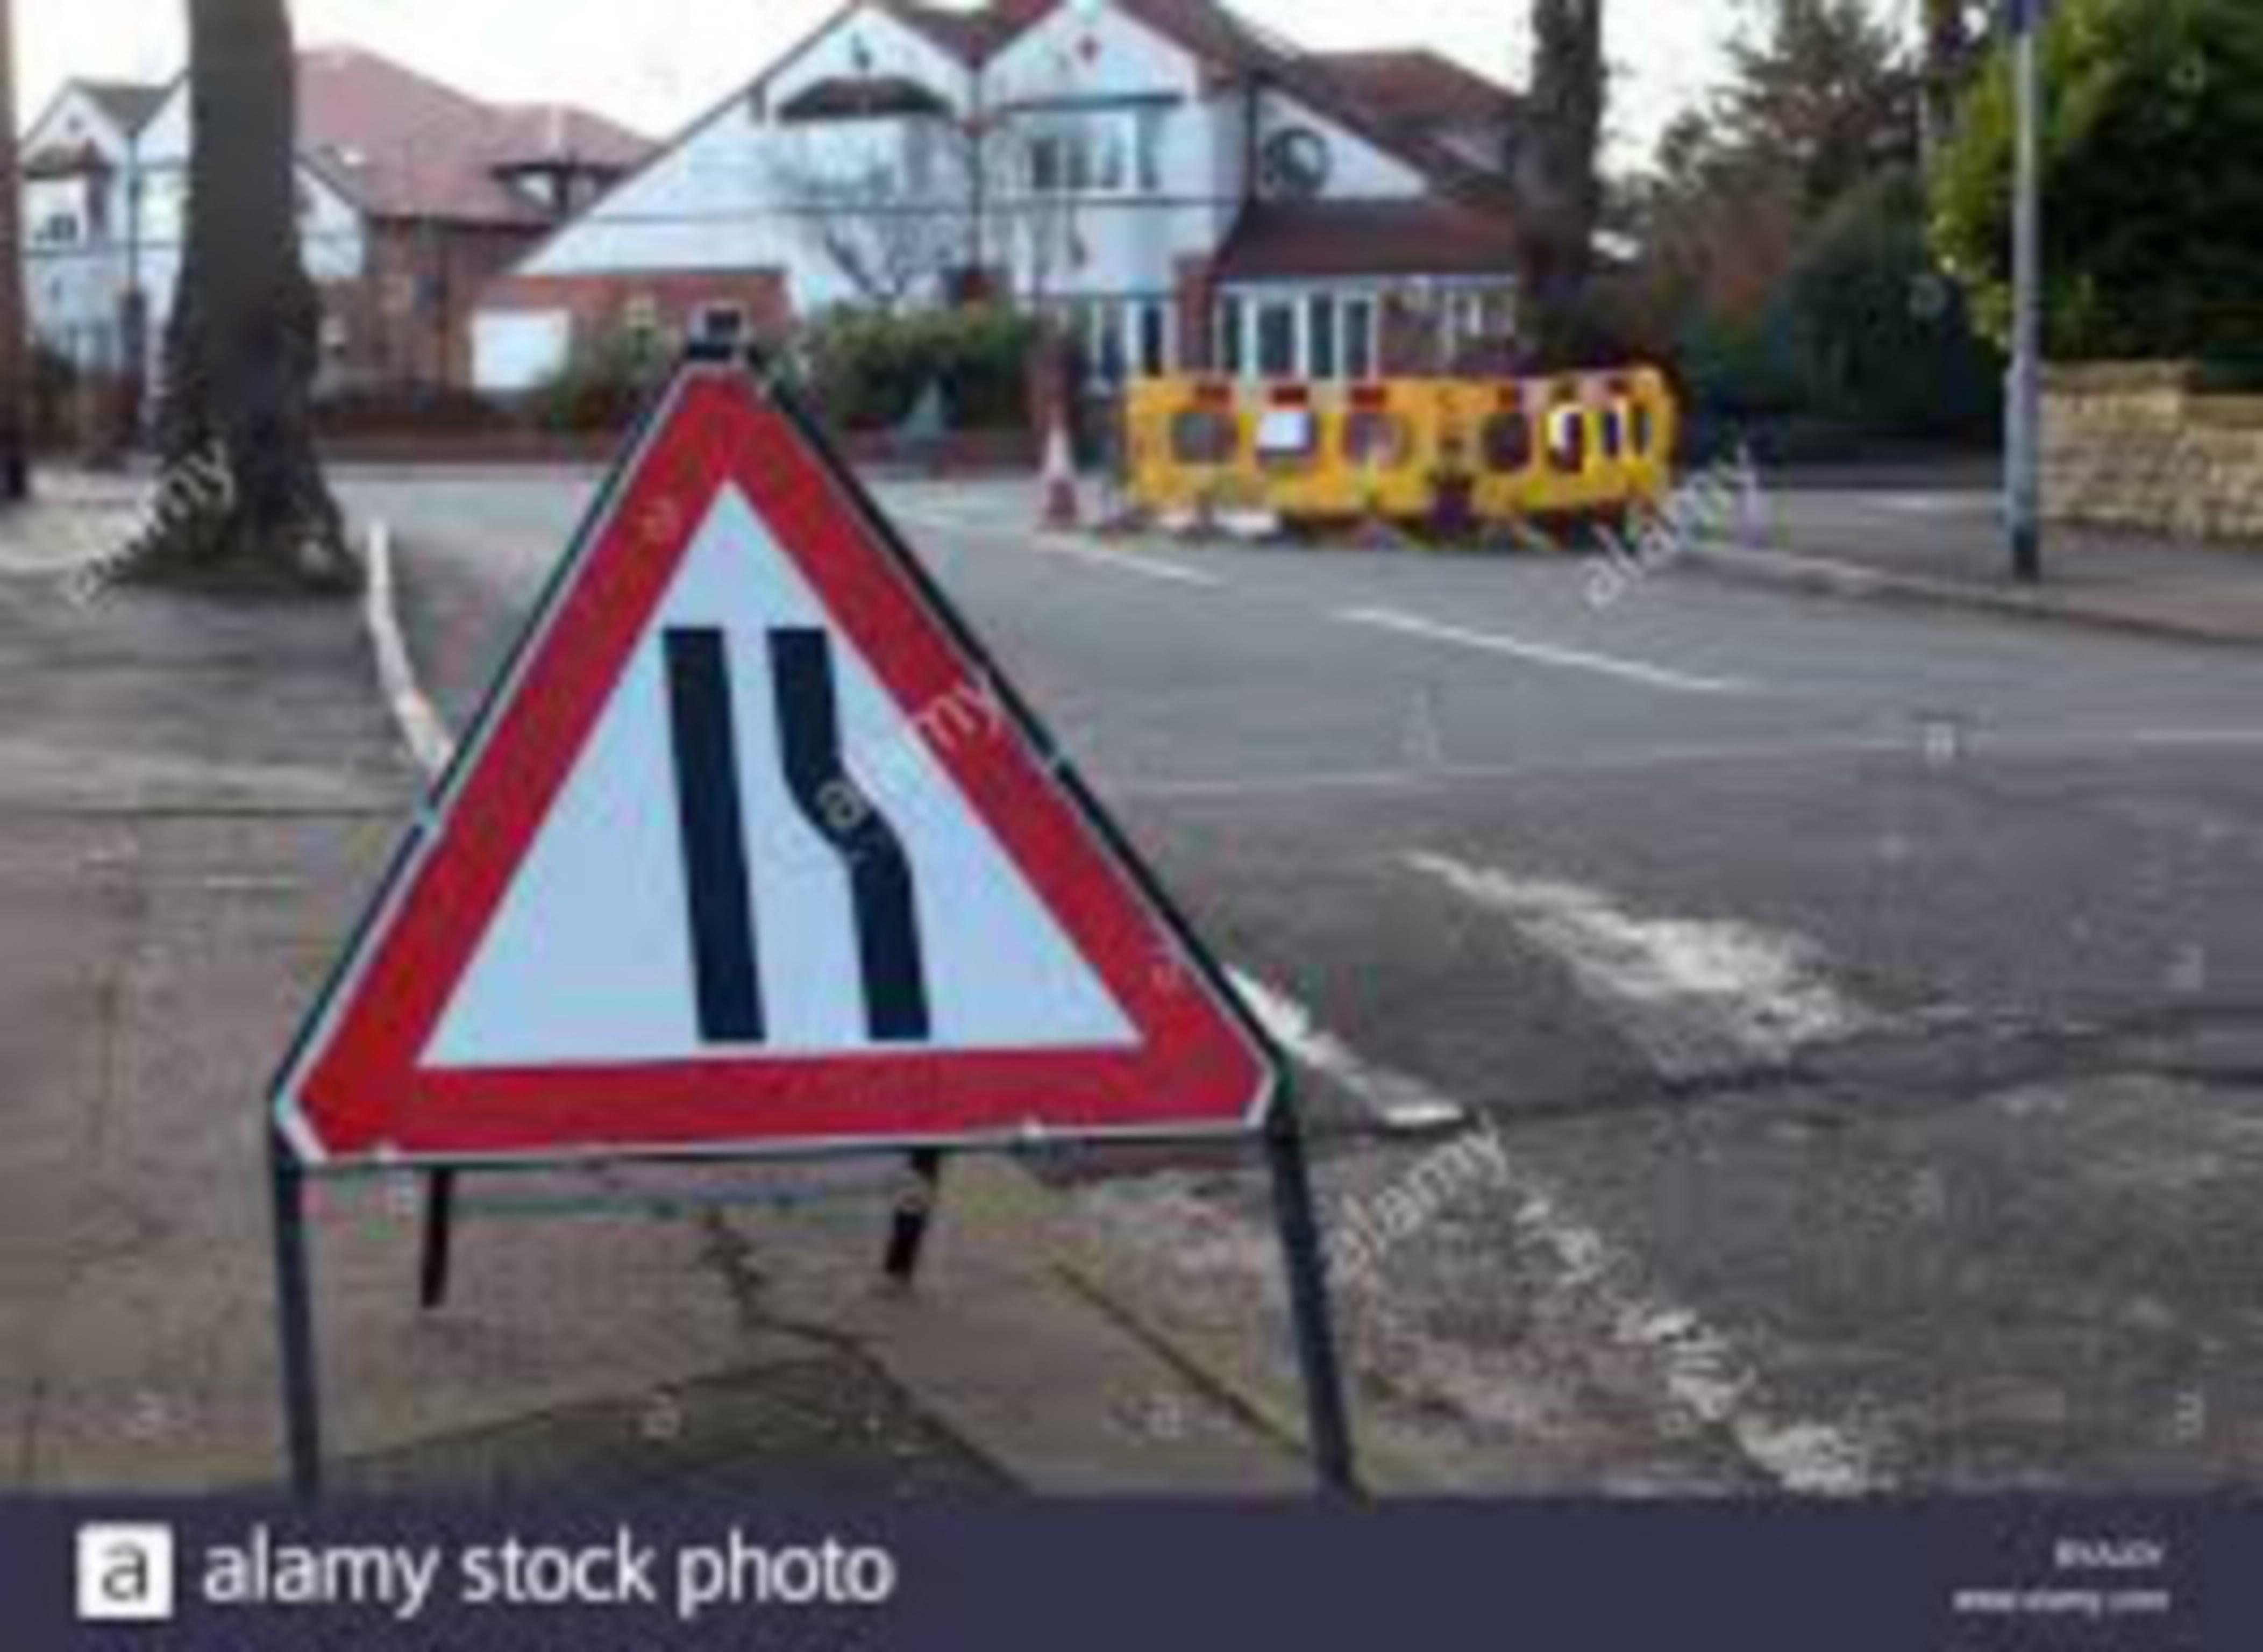narrow_road: (209, 336, 1339, 1172)
